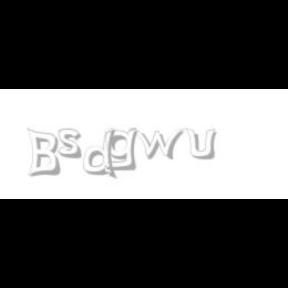B: (26, 128, 60, 178)
d: (84, 128, 120, 180)
g: (104, 128, 142, 171)
s: (58, 128, 86, 160)
u: (186, 128, 220, 160)
w: (130, 128, 190, 160)
